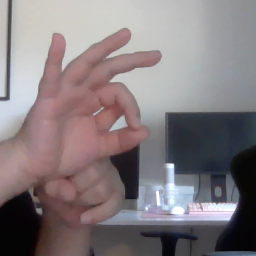OE: (17, 25, 163, 224)
